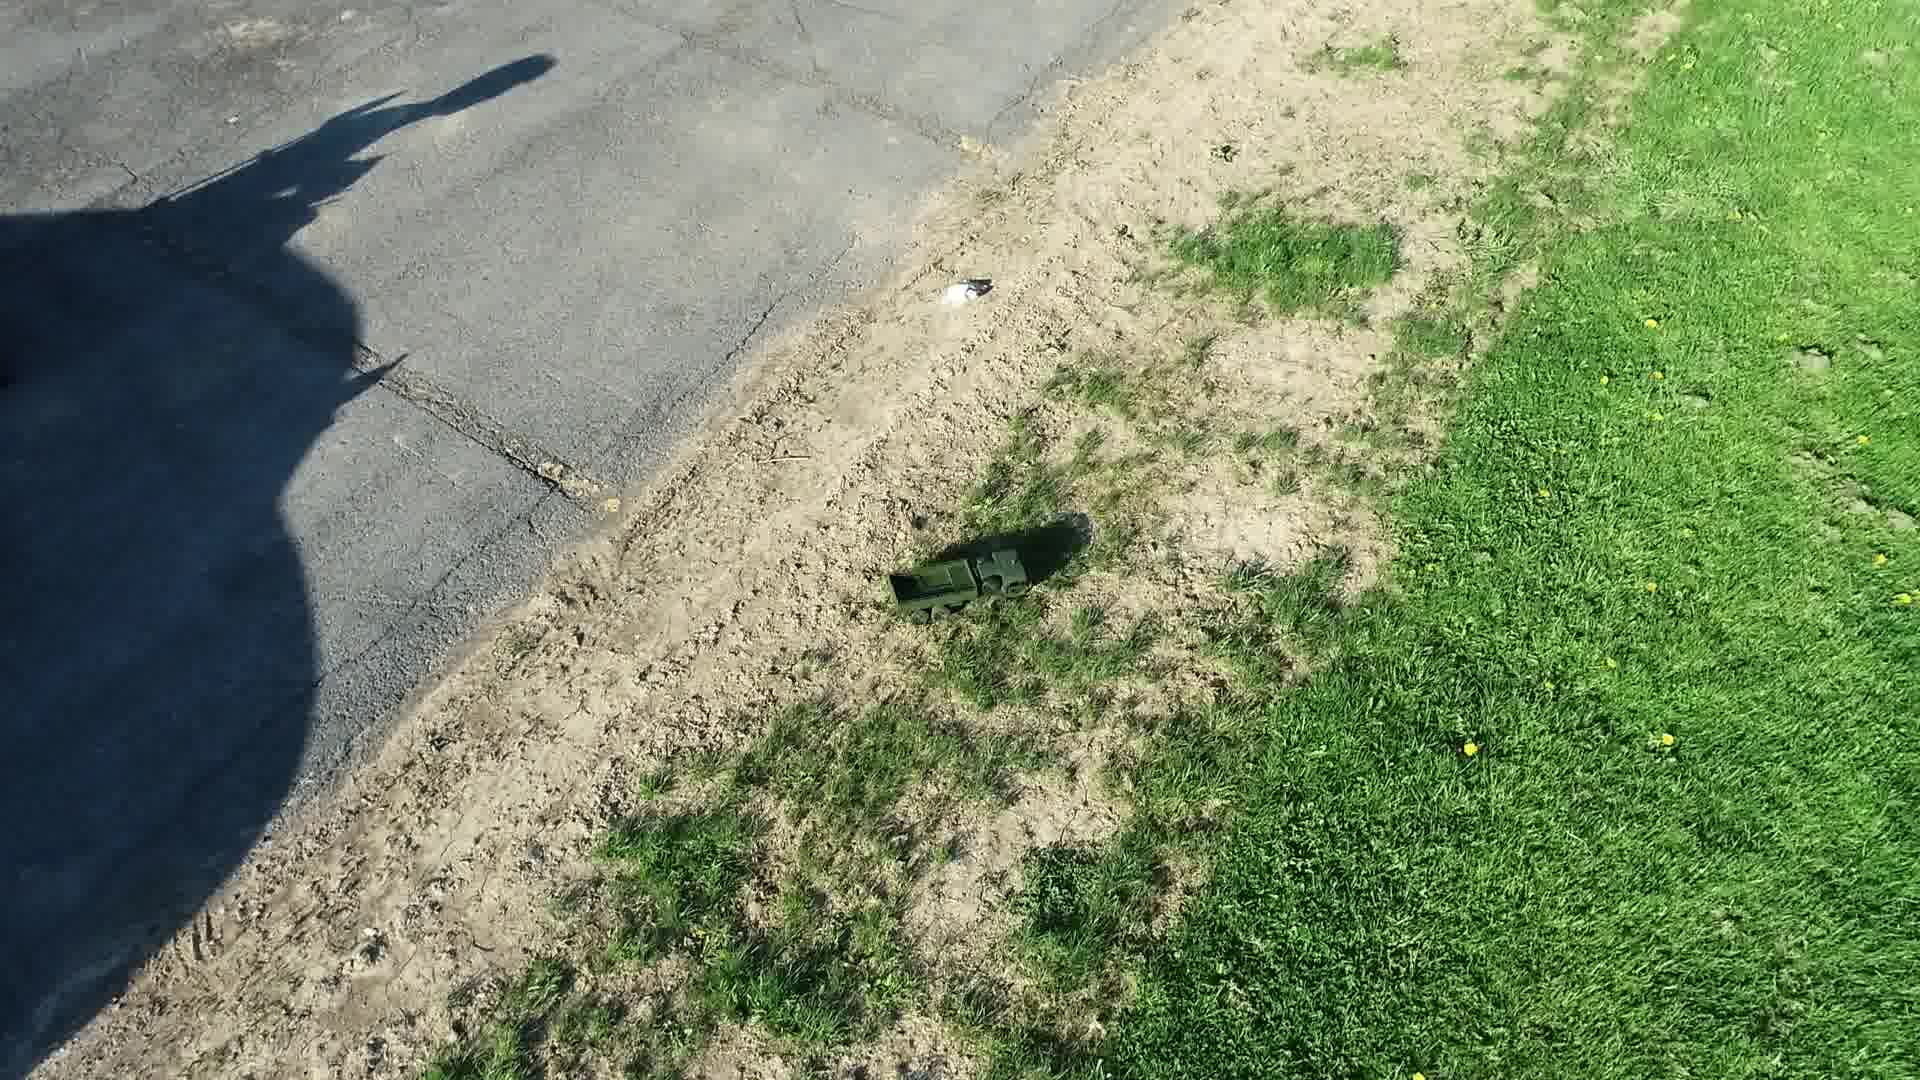transporter9: (884, 539, 1036, 617)
